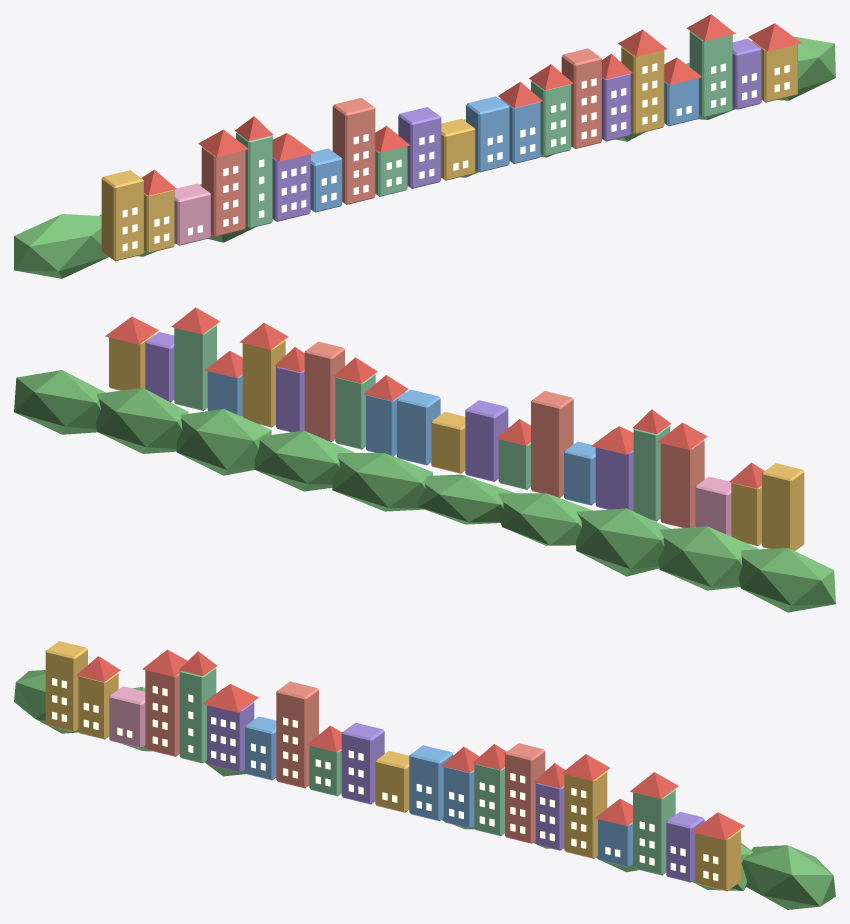
The model's file is backdrop_city.glb.
3 renders of one model, top to bottom at view 1: azimuth 30°, elevation 25°; view 2: azimuth 150°, elevation 25°; view 3: azimuth 330°, elevation 25°, orthographic.
Visible parts, largest first — view 1: Hill; view 2: Hill; view 3: Hill.
Part boxes in pixels (x1=…): Hill: x1=14, y1=14, x2=835, y2=278; Hill: x1=14, y1=307, x2=835, y2=612; Hill: x1=14, y1=641, x2=835, y2=909.
Bounding box in the file's own units: 102 × 17.35 × 10.96.
